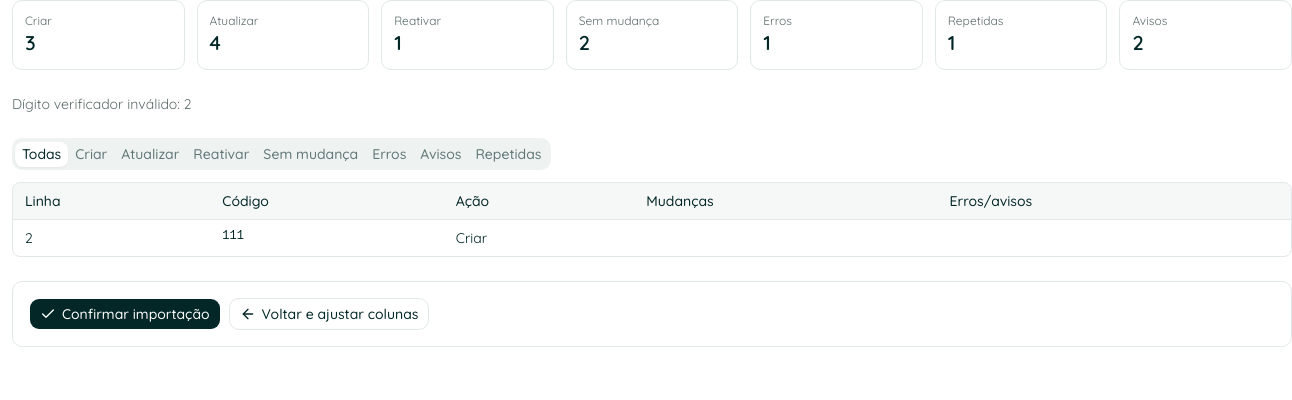
it: SimulationStep › IMPORT_IN_PROGRESS mostra a mensagem e reabilita o botão
The width and height of the screenshot is (1292, 400).
Click the button "Confirmar importação" at x=125, y=314, box [29,298,220,330]
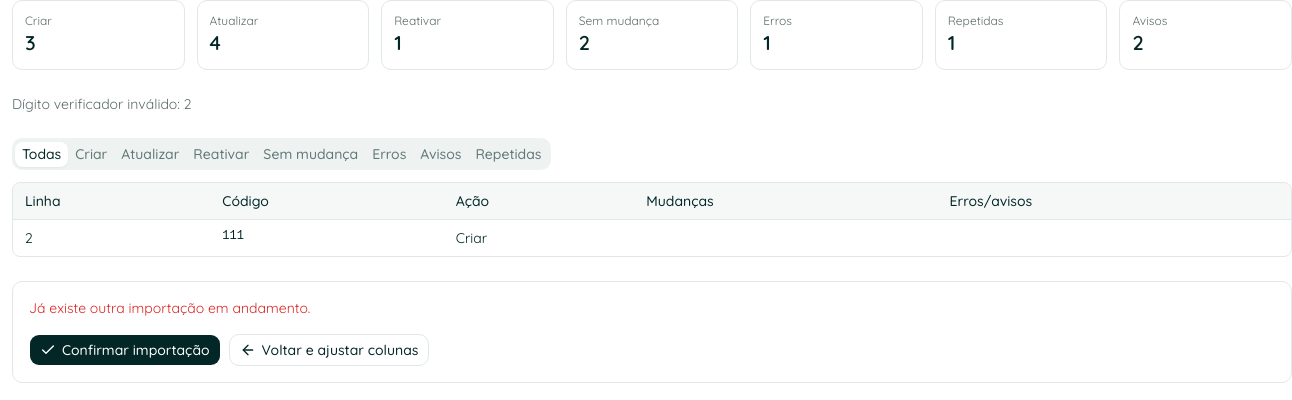
Expected: the button "Confirmar importação" is enabled, [29,334,220,366]
Expected: the message reads "Já existe outra importação em andamento.", [29,299,310,317]
